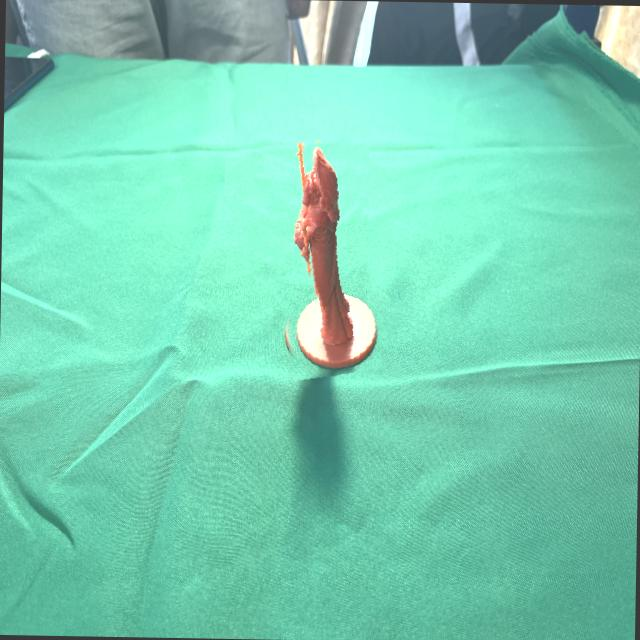amon: (265, 136, 378, 380)
